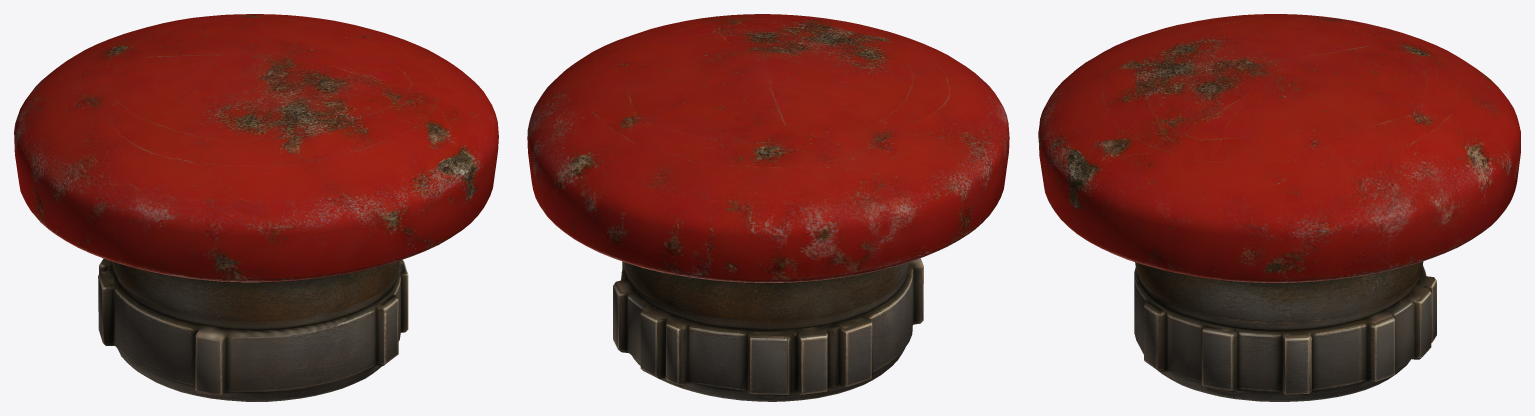
The model's file is button.glb.
The picture shows the model from 3 angles, left to right: view 1: azimuth 30°, elevation 25°; view 2: azimuth 150°, elevation 25°; view 3: azimuth 270°, elevation 25°; orthographic projection.
Visible parts, largest first — view 1: mesh_rep_0_ori_repair; view 2: mesh_rep_0_ori_repair; view 3: mesh_rep_0_ori_repair.
Part boxes in pixels (box(x1,y1,x2,y2)): mesh_rep_0_ori_repair: box(14, 14, 498, 401); mesh_rep_0_ori_repair: box(527, 14, 1009, 401); mesh_rep_0_ori_repair: box(1038, 14, 1520, 401).
Bounding box in the file's own units: 1.13 × 0.749 × 1.13.
1 material, 1 textured.
